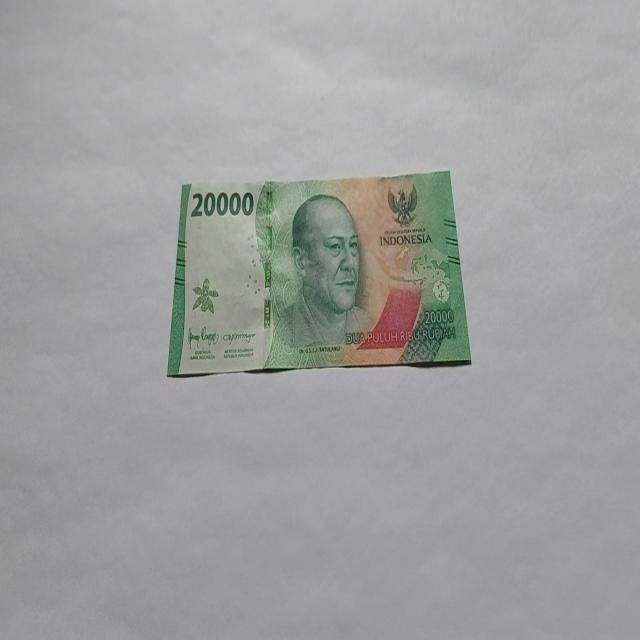dua puluh ribu rupiah: (166, 169, 472, 378)
